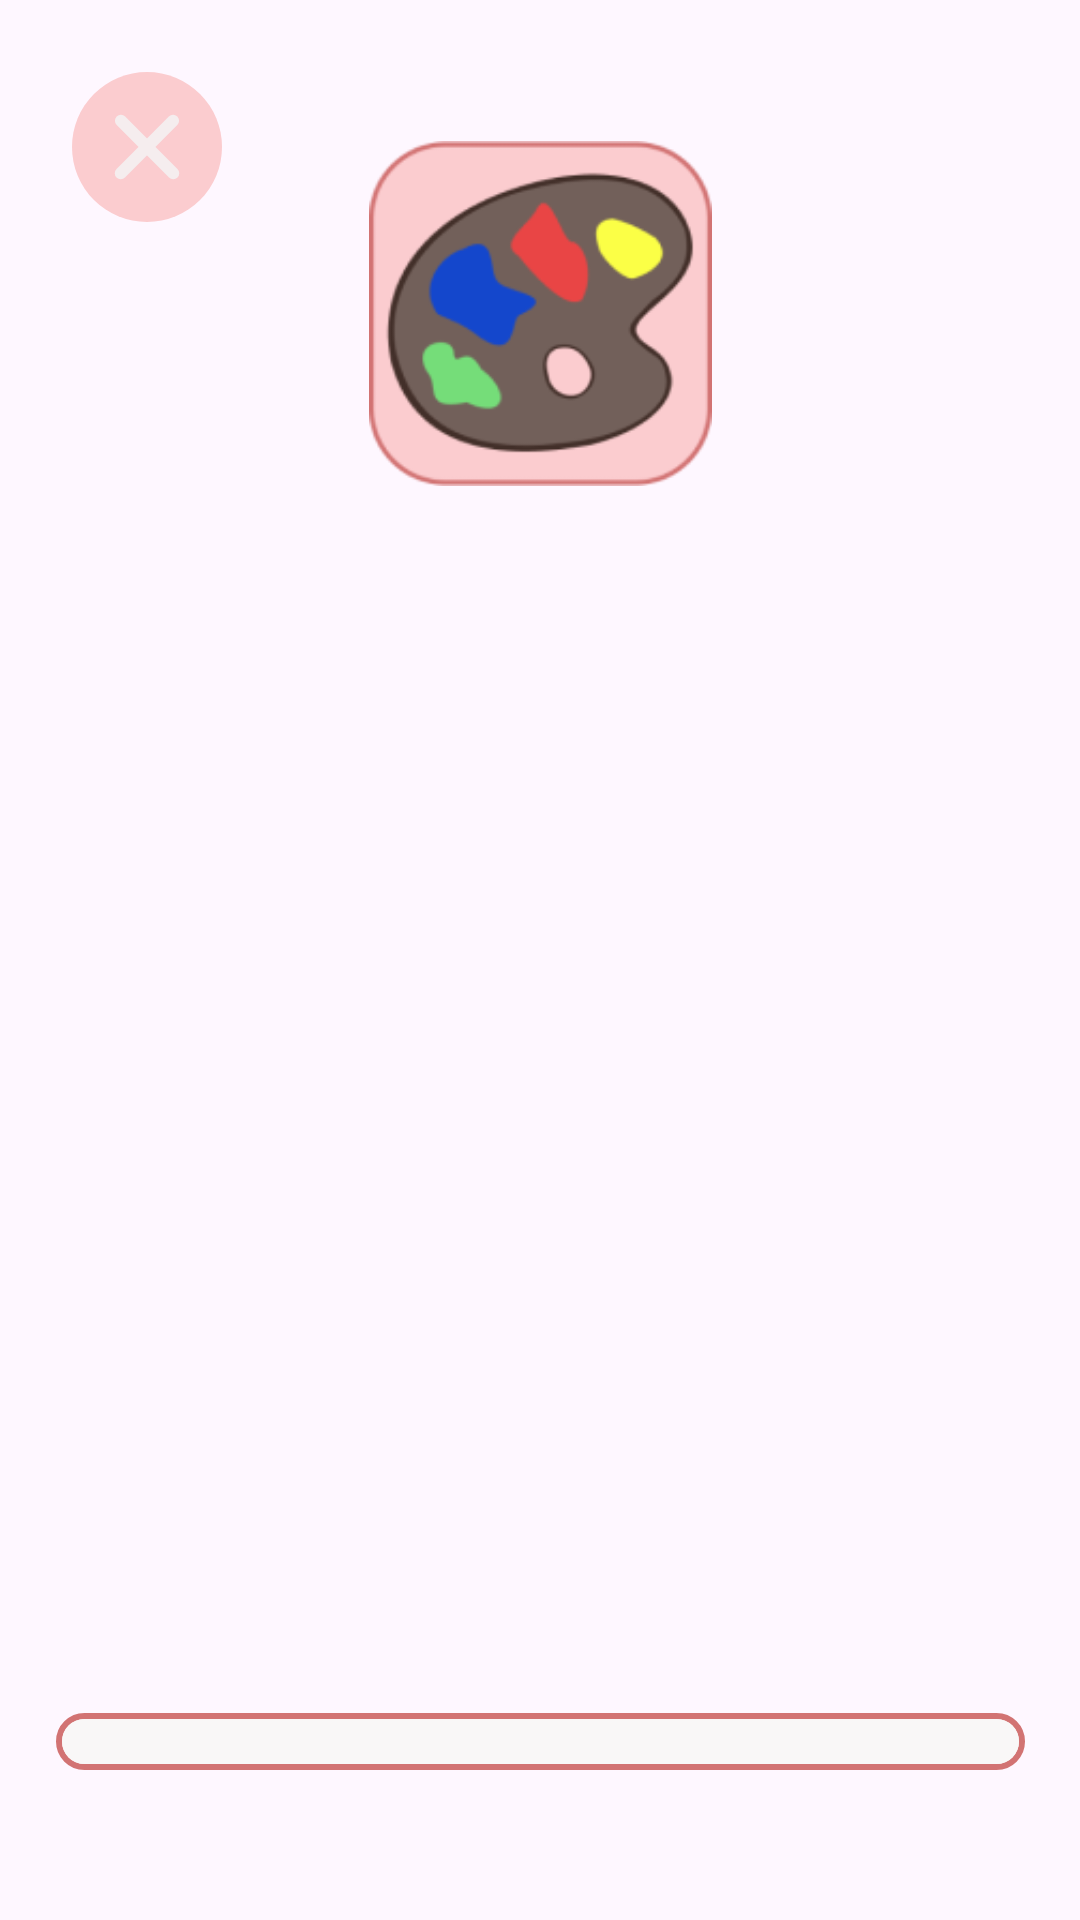

Locate icon controls on the screen. Image size 1080px×1920px, boxes as BBox(x1, y1, x2, y2).
colorgameicon: BBox(369, 141, 712, 486)
colourgameexit: BBox(72, 72, 222, 222)
